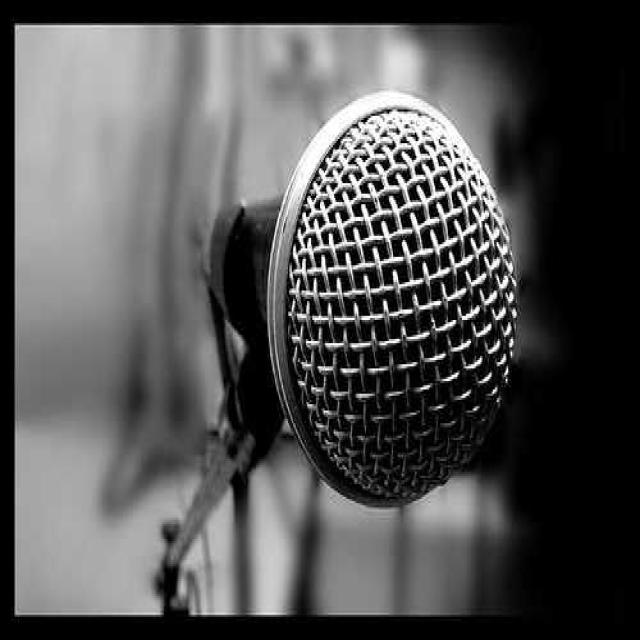microphone: (205, 83, 524, 514)
